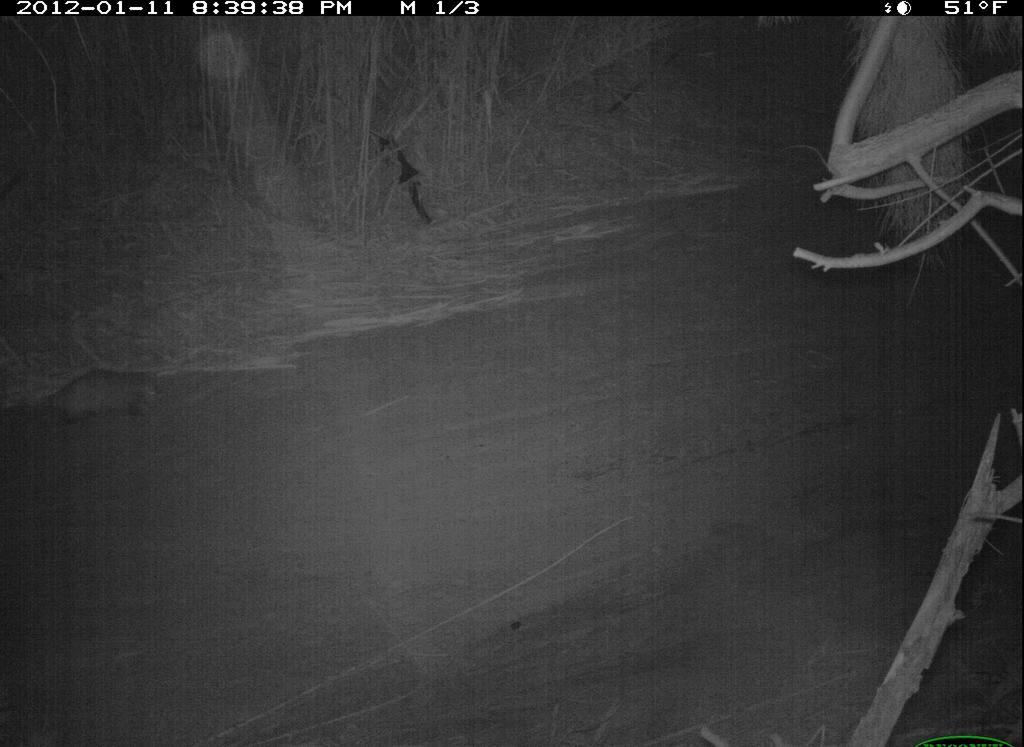opossum: (31, 364, 177, 436)
